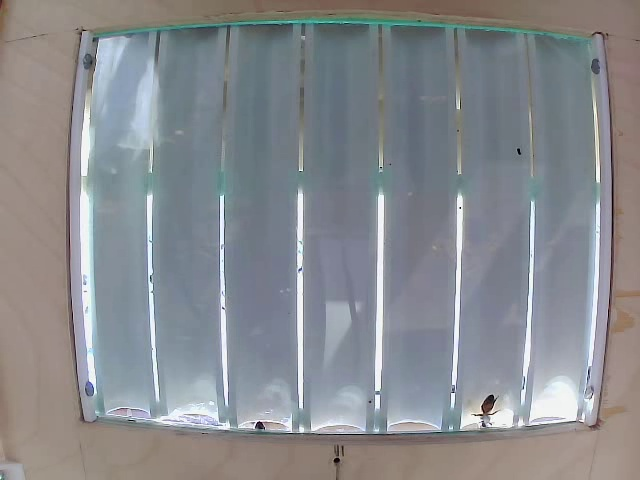bee: (476, 383, 498, 424)
